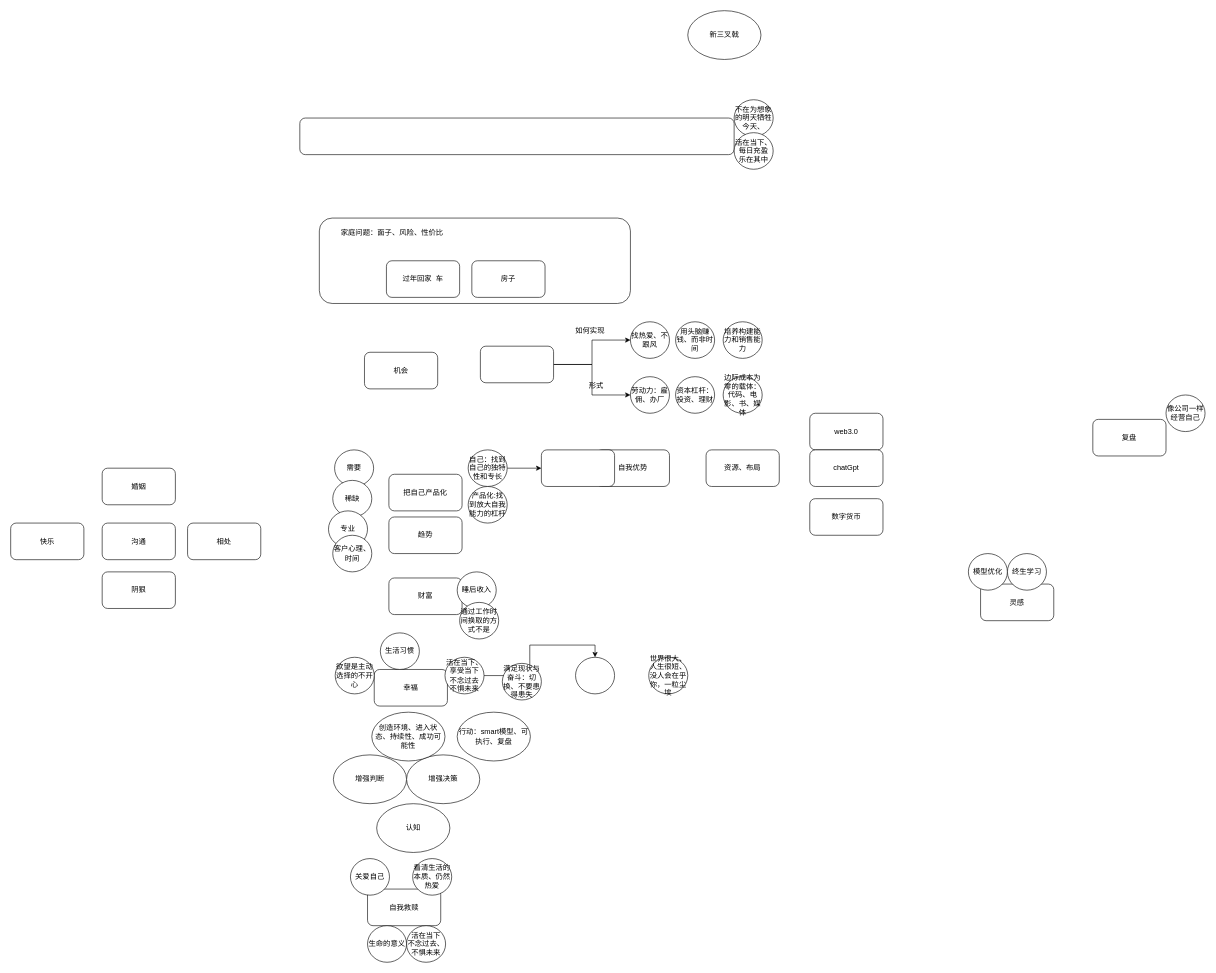
This 1216x973 diagram has some shape labels left out. The shapes that lost their labels are listed below. From the top down, each one's centre as x and y in pixels, then its label:
pixel 516 136: 财富自由、退休
pixel 517 364: 杠杆
pixel 578 467: 兴趣擅长
pixel 595 675: 学生时代随着30岁已经结束、前世今生、成人时代、自我、负责、全力
